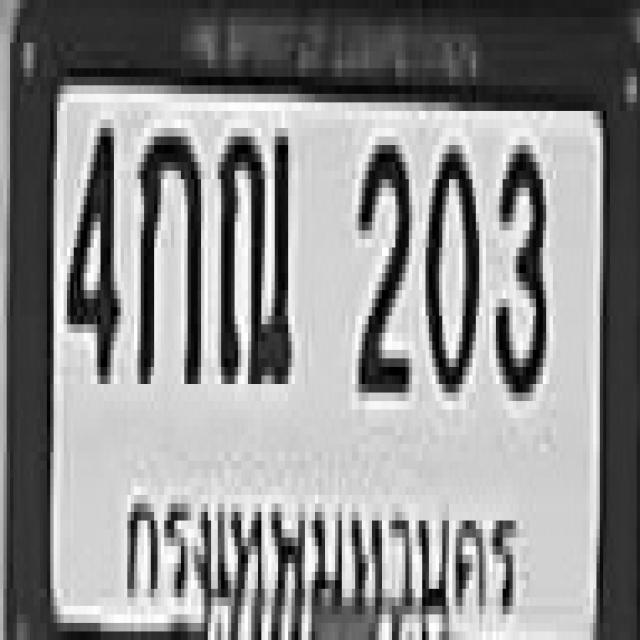0: (422, 137, 476, 384)
10GorGai: (134, 120, 198, 376)
2: (354, 137, 407, 384)
28NorNen: (215, 115, 288, 380)
3: (492, 136, 543, 392)
4: (64, 120, 117, 376)
Bangkok: (112, 459, 525, 638)
